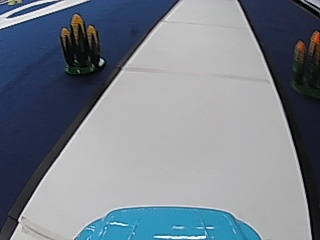corn: (59, 11, 106, 75), (289, 32, 318, 96)
